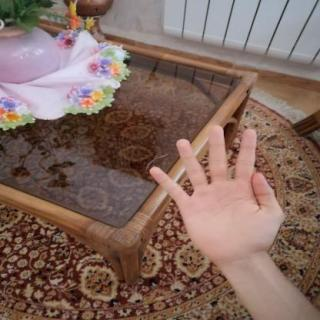SHEEN: (142, 119, 295, 276)
